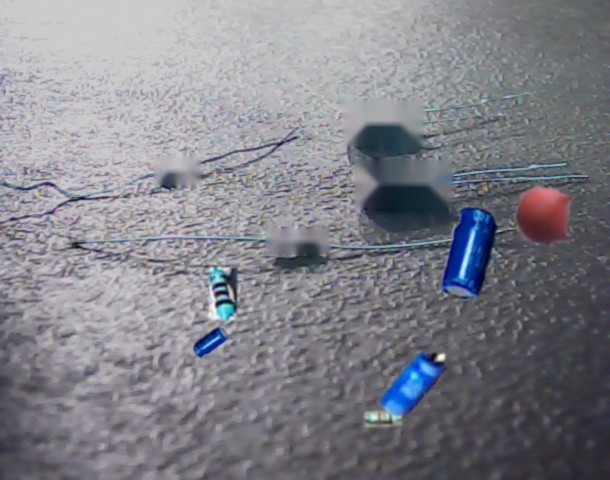capacitor: (440, 206, 498, 300), (377, 352, 448, 416), (515, 185, 574, 246), (193, 327, 229, 358)
resistor: (209, 267, 238, 320), (364, 410, 402, 427)
